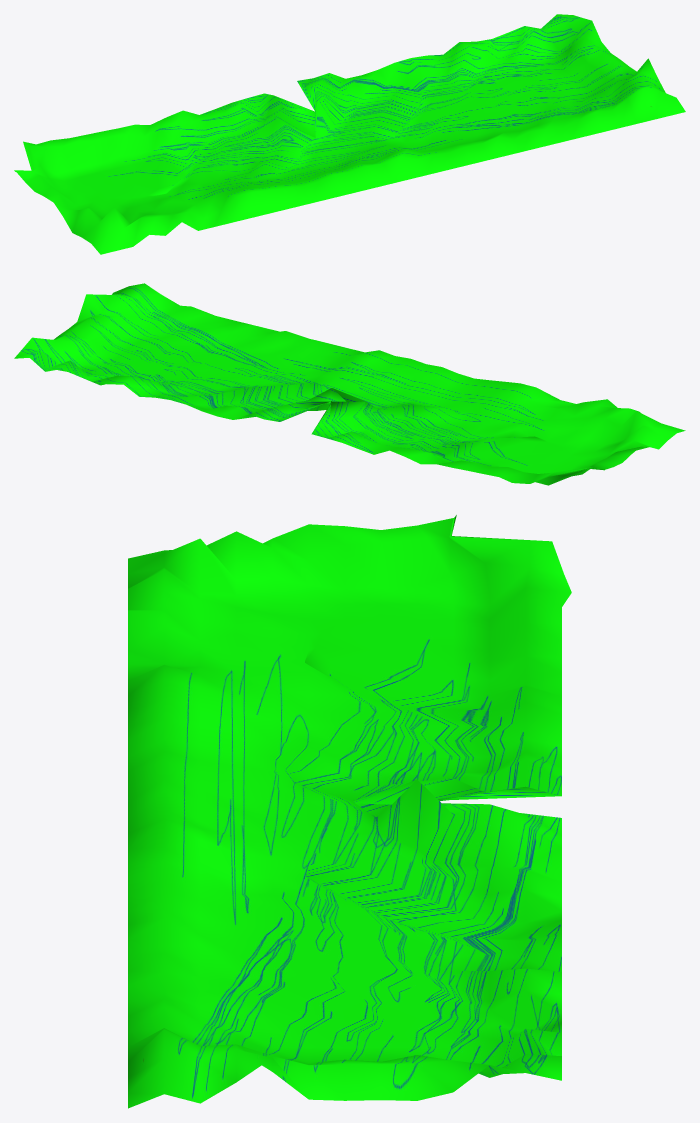
Rendered from tapi.obj.
3 renders of one model, top to bottom at view 1: azimuth 30°, elevation 25°; view 2: azimuth 150°, elevation 25°; view 3: azimuth 270°, elevation 25°, orthographic. The views are drawn at different scales.
Parts seen in each view (by area): view 1: english_only_no_spaces; view 2: english_only_no_spaces; view 3: english_only_no_spaces.
Boxes of the visible parts, x1=… form: english_only_no_spaces: x1=14, y1=14, x2=685, y2=254; english_only_no_spaces: x1=14, y1=283, x2=685, y2=485; english_only_no_spaces: x1=128, y1=515, x2=571, y2=1108.
Bounding box in the file's own units: 108 × 5.41 × 36.83.
